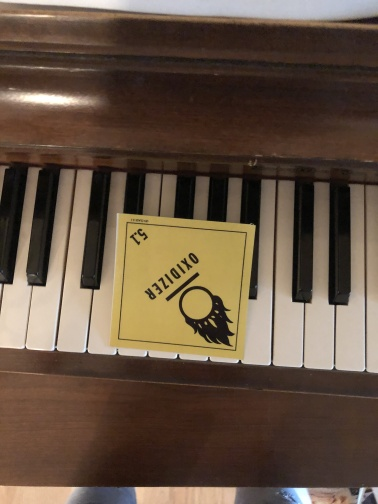Oxidizer: (107, 213, 256, 360)
